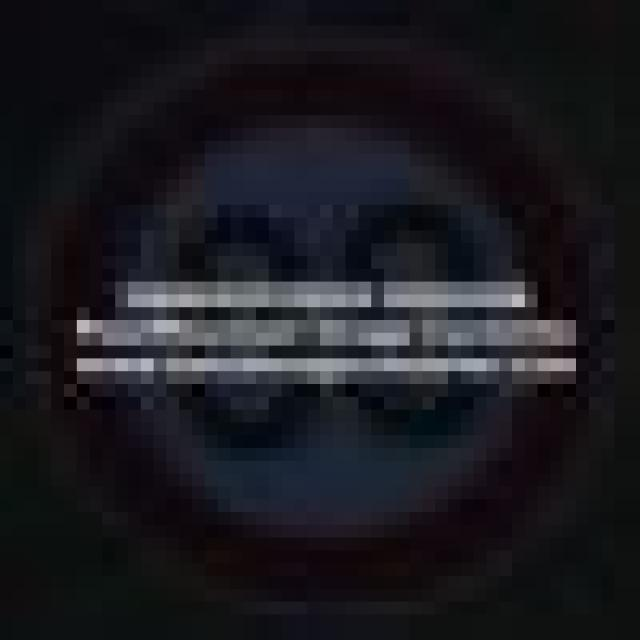SPEED_LIMIT_80: (38, 64, 589, 550)
